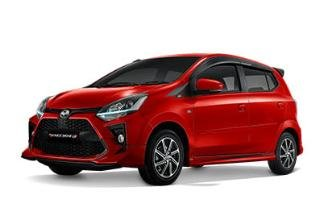mobil: (20, 51, 307, 196)
